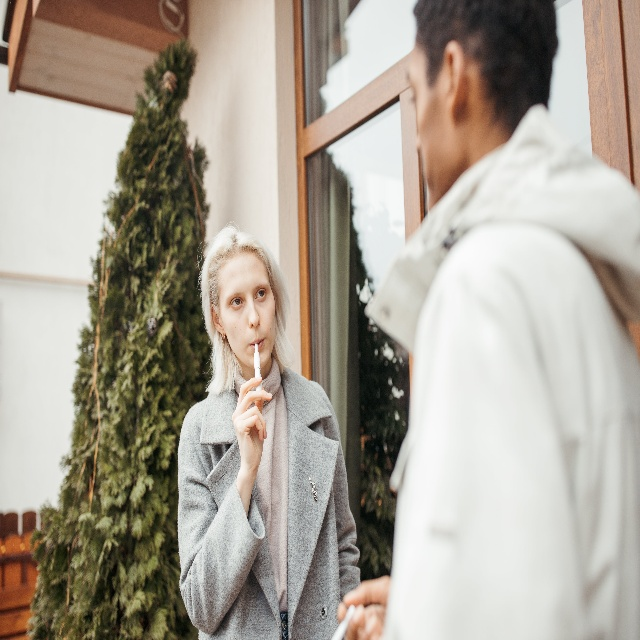Sin_guantes: (232, 377, 273, 475), (337, 574, 389, 640)
